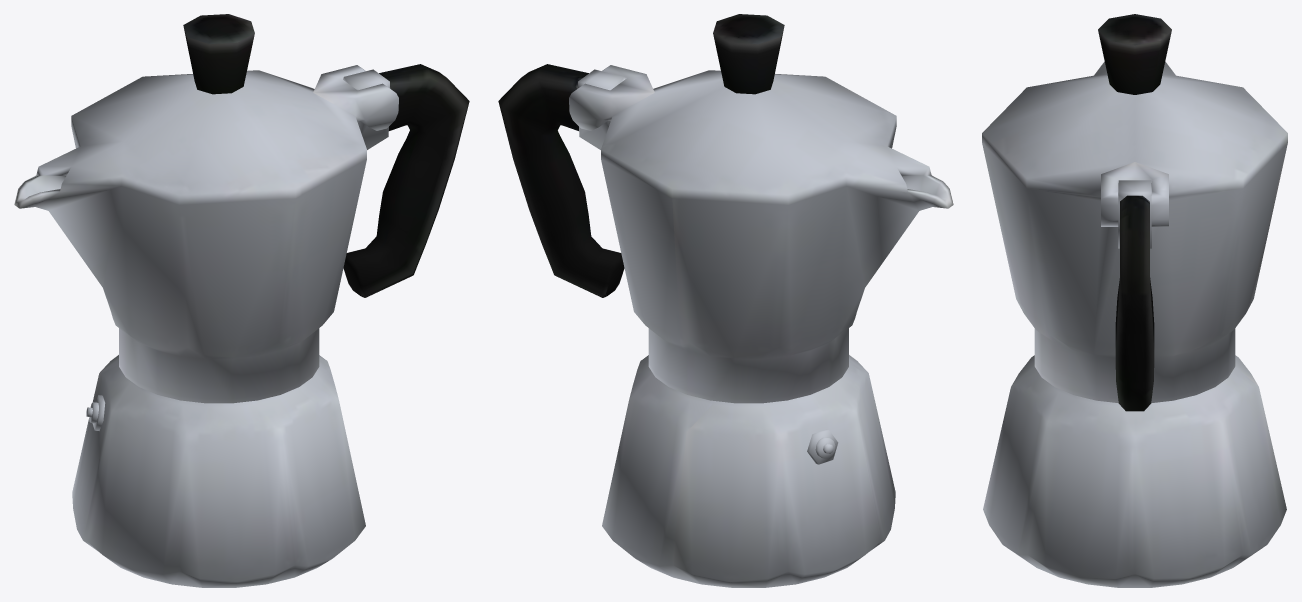
The picture shows the model from 3 angles, left to right: view 1: azimuth 30°, elevation 25°; view 2: azimuth 150°, elevation 25°; view 3: azimuth 270°, elevation 25°; orthographic projection.
Size of the model in its own units: 5.31 by 5.81 by 3.14.
1 material, 1 textured.
